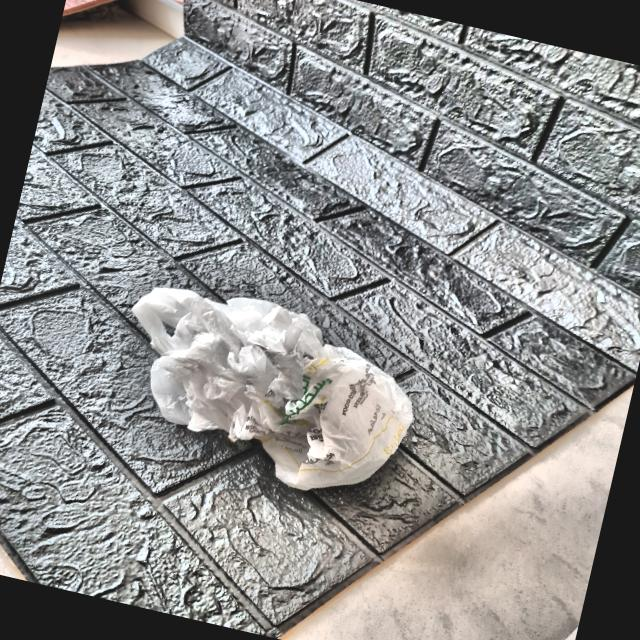plastic bag: (106, 274, 429, 513)
